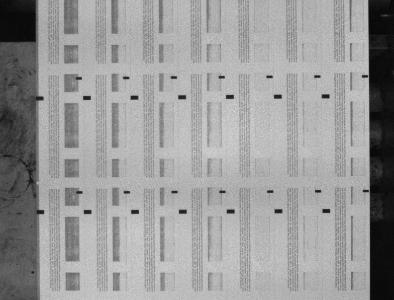backgroundclutter: (31, 271, 35, 274)
qblock: (36, 209, 45, 214), (130, 95, 139, 100), (179, 209, 187, 214), (227, 209, 235, 214), (131, 209, 139, 214), (323, 208, 331, 213), (178, 95, 187, 99), (226, 95, 235, 99), (84, 210, 92, 214), (275, 209, 283, 213), (36, 96, 44, 100), (83, 96, 91, 100), (274, 94, 282, 98), (322, 94, 330, 98)
smallqblock: (76, 190, 83, 194), (219, 75, 225, 79), (267, 190, 274, 193), (75, 77, 82, 80), (362, 75, 369, 78), (315, 189, 322, 192), (123, 76, 130, 79), (363, 189, 370, 192), (172, 190, 178, 193), (124, 190, 130, 193), (171, 76, 177, 79), (220, 190, 226, 193), (267, 75, 273, 78), (315, 75, 321, 78)
